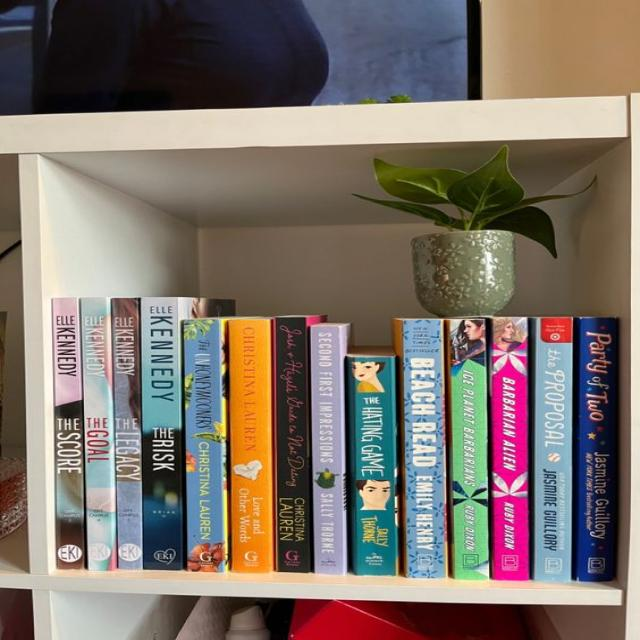book: (224, 317, 276, 573), (141, 299, 190, 569), (396, 319, 447, 578), (275, 316, 323, 572), (444, 317, 490, 580), (573, 317, 617, 581), (346, 353, 398, 575), (183, 318, 228, 572), (110, 298, 150, 569), (532, 317, 572, 581), (79, 298, 116, 570), (311, 323, 350, 574), (491, 318, 527, 580), (53, 299, 84, 569)
plants: (354, 145, 595, 317)
